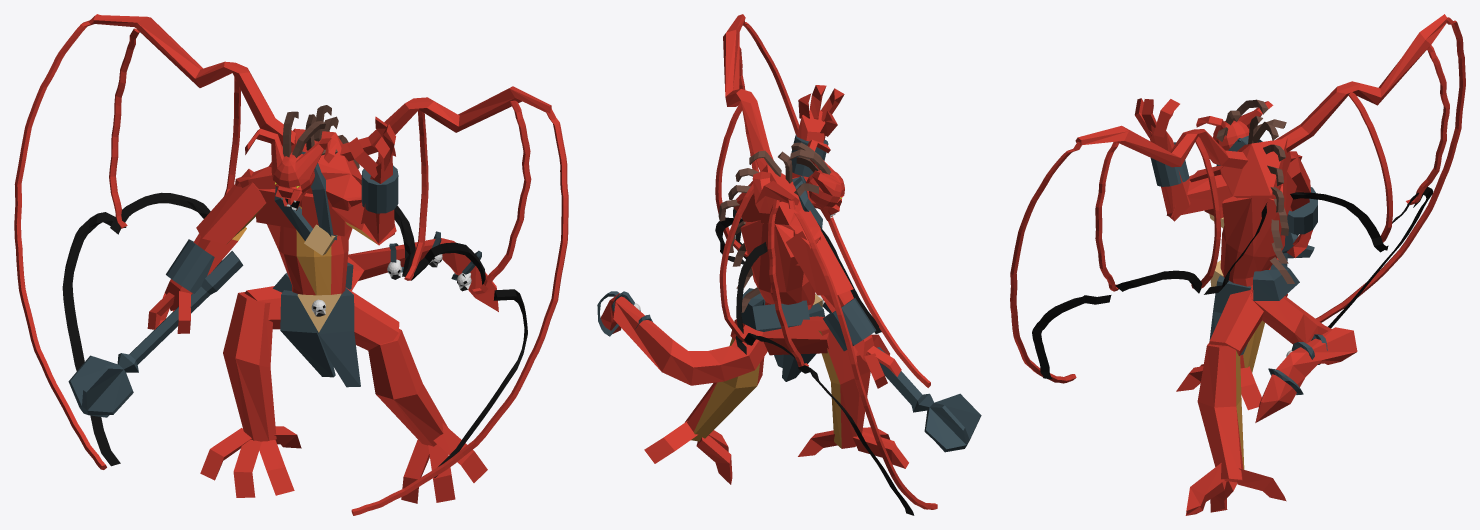
The model's file is demonmodel.gltf.
3 views of the same model, side by side, from view 1: azimuth 30°, elevation 25°; view 2: azimuth 150°, elevation 25°; view 3: azimuth 270°, elevation 25° (orthographic). The views are drawn at different scales.
Visible parts, largest first — view 1: node_MeshObject-1472443200-PolyPaper8, node_MeshObject-1320272576-PolyPaper23; view 2: node_MeshObject-1472443200-PolyPaper8, node_MeshObject-1320272576-PolyPaper23; view 3: node_MeshObject-1472443200-PolyPaper8, node_MeshObject-1320272576-PolyPaper23.
Part boxes in pixels (x1=…): node_MeshObject-1472443200-PolyPaper8: x1=14, y1=14, x2=551, y2=503; node_MeshObject-1320272576-PolyPaper23: x1=62, y1=109, x2=568, y2=515; node_MeshObject-1472443200-PolyPaper8: x1=597, y1=14, x2=981, y2=509; node_MeshObject-1320272576-PolyPaper23: x1=715, y1=20, x2=930, y2=515; node_MeshObject-1472443200-PolyPaper8: x1=1075, y1=14, x2=1465, y2=515; node_MeshObject-1320272576-PolyPaper23: x1=1010, y1=101, x2=1433, y2=383.
Bounding box in the file's own units: 1.9 × 1.97 × 1.98.
